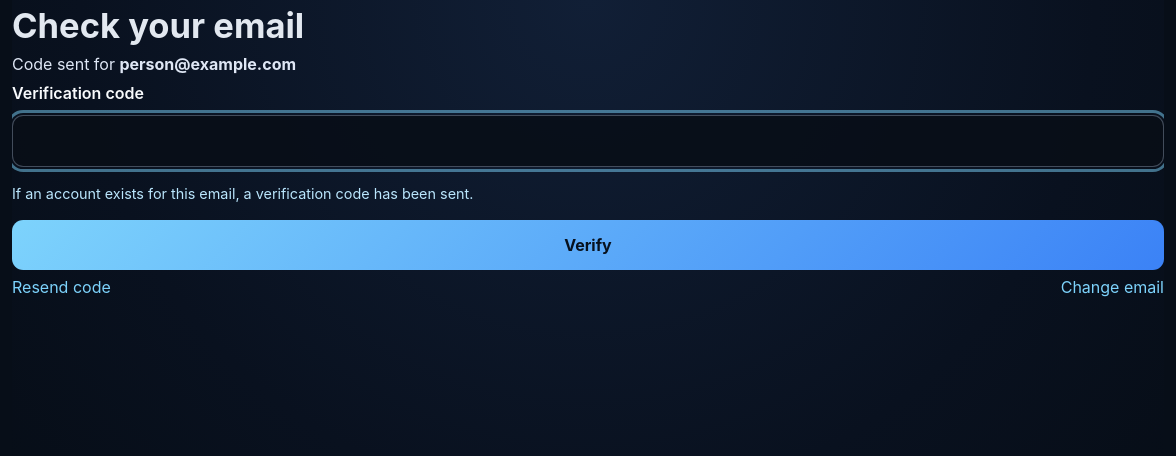
OtpVerificationStep › rejects invalid OTP format without verification
Type "12ab" into the field labelled "Verification code" at [588, 141], box [12,115,1164,167]
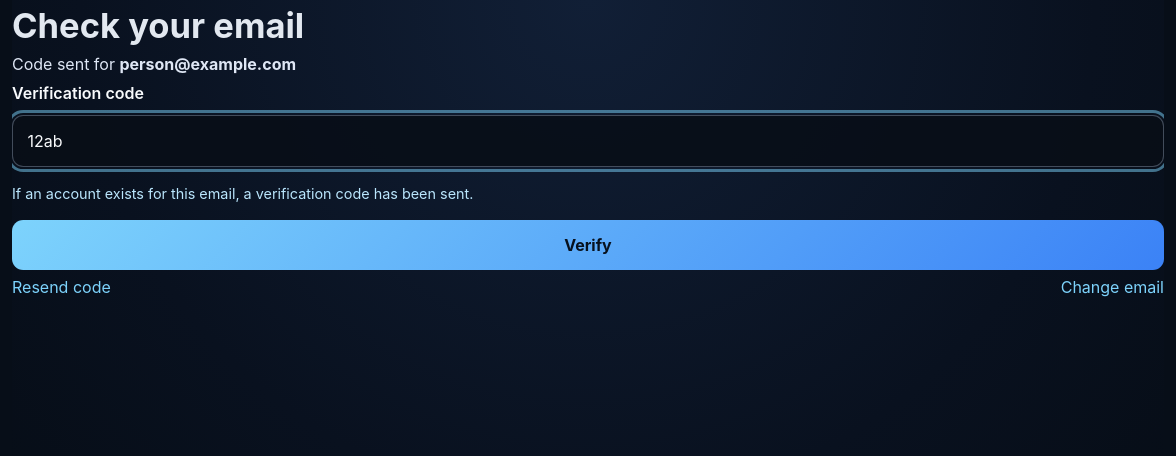
Click the button "Verify" at [588, 245], box [12,220,1164,270]
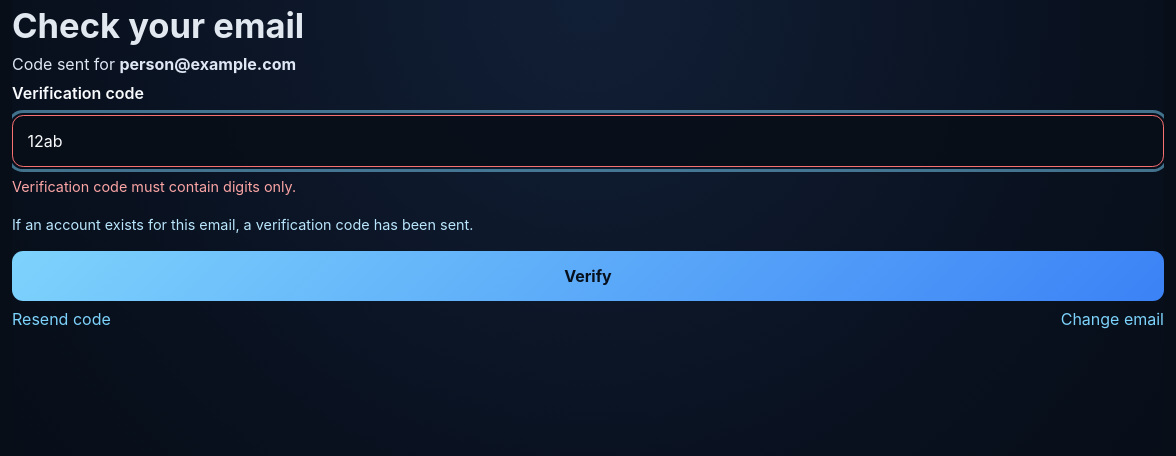
Expected: the message "Verification code must contain digits only." is shown, [12,178,296,195]
